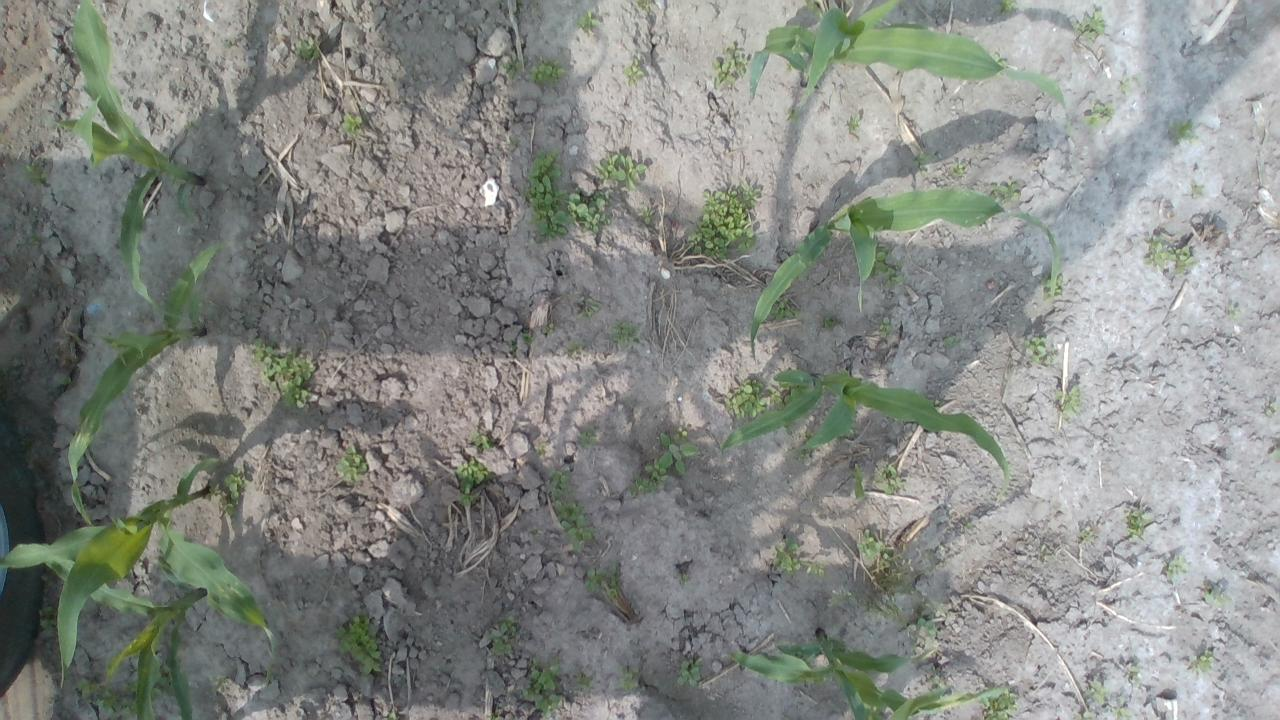Maize: (0, 454, 281, 690), (748, 188, 1059, 350), (51, 0, 205, 312), (64, 246, 222, 531), (746, 0, 1075, 136), (720, 366, 1013, 500), (41, 551, 208, 720), (722, 628, 1009, 720)
Weeds: (685, 180, 762, 261), (251, 336, 316, 413), (518, 145, 568, 243), (78, 667, 138, 720), (334, 612, 384, 674), (646, 426, 699, 484), (520, 655, 560, 717), (592, 150, 646, 194), (554, 499, 594, 554), (566, 188, 612, 234), (208, 469, 250, 518), (910, 596, 944, 656), (856, 528, 899, 574), (456, 459, 494, 509), (724, 379, 766, 423), (1148, 238, 1194, 278), (712, 42, 748, 90), (870, 243, 906, 290), (487, 612, 516, 656), (150, 660, 176, 708), (529, 57, 568, 89), (587, 563, 621, 598), (336, 446, 368, 483), (869, 598, 910, 626), (981, 691, 1018, 720), (1072, 9, 1104, 40), (1021, 335, 1055, 364), (772, 539, 801, 573), (676, 658, 706, 688), (1084, 102, 1116, 130), (546, 466, 573, 499), (1055, 386, 1081, 419), (990, 180, 1020, 208), (23, 161, 50, 192), (610, 321, 642, 347), (769, 296, 800, 322), (1126, 510, 1153, 539), (501, 50, 527, 80), (879, 463, 904, 494), (1168, 117, 1195, 143), (295, 36, 322, 62), (627, 472, 656, 496), (624, 58, 647, 88), (576, 296, 600, 320), (1088, 680, 1110, 706), (849, 463, 864, 501), (913, 150, 933, 178), (1040, 276, 1065, 298), (576, 9, 602, 30), (1191, 652, 1215, 674), (767, 386, 789, 410), (342, 114, 364, 138), (620, 666, 640, 690), (468, 430, 492, 450), (1202, 591, 1230, 608), (1167, 554, 1186, 578), (578, 430, 600, 450), (1110, 706, 1134, 720), (829, 590, 853, 604), (846, 110, 860, 134), (805, 560, 825, 576), (785, 108, 801, 128), (878, 318, 894, 337), (804, 0, 821, 17), (639, 205, 654, 224), (797, 447, 817, 460), (950, 162, 966, 178), (543, 322, 559, 338), (209, 674, 226, 689), (1120, 76, 1133, 95), (942, 334, 962, 346), (996, 0, 1016, 12), (989, 53, 1006, 67), (820, 316, 835, 331), (520, 331, 535, 346), (576, 676, 592, 690), (1266, 402, 1280, 417), (507, 338, 517, 358), (1128, 664, 1142, 678), (1267, 446, 1280, 461), (932, 672, 944, 687), (1228, 308, 1240, 322), (1192, 184, 1204, 198), (634, 0, 648, 12), (1079, 530, 1090, 543), (679, 574, 689, 586), (536, 447, 546, 459), (962, 521, 976, 529), (1078, 713, 1092, 720), (784, 61, 794, 70), (510, 136, 520, 144), (488, 714, 499, 720), (569, 343, 577, 351), (223, 40, 230, 48)
